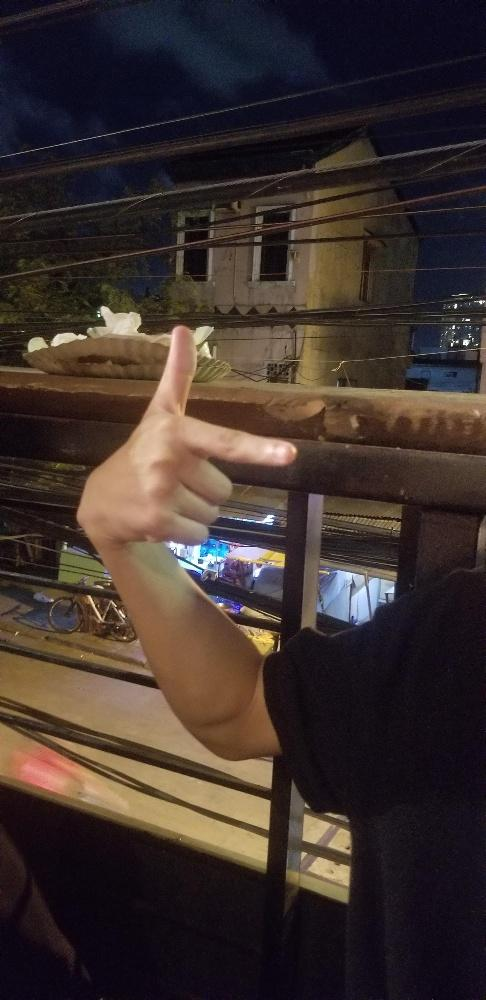g: (77, 320, 298, 552)
